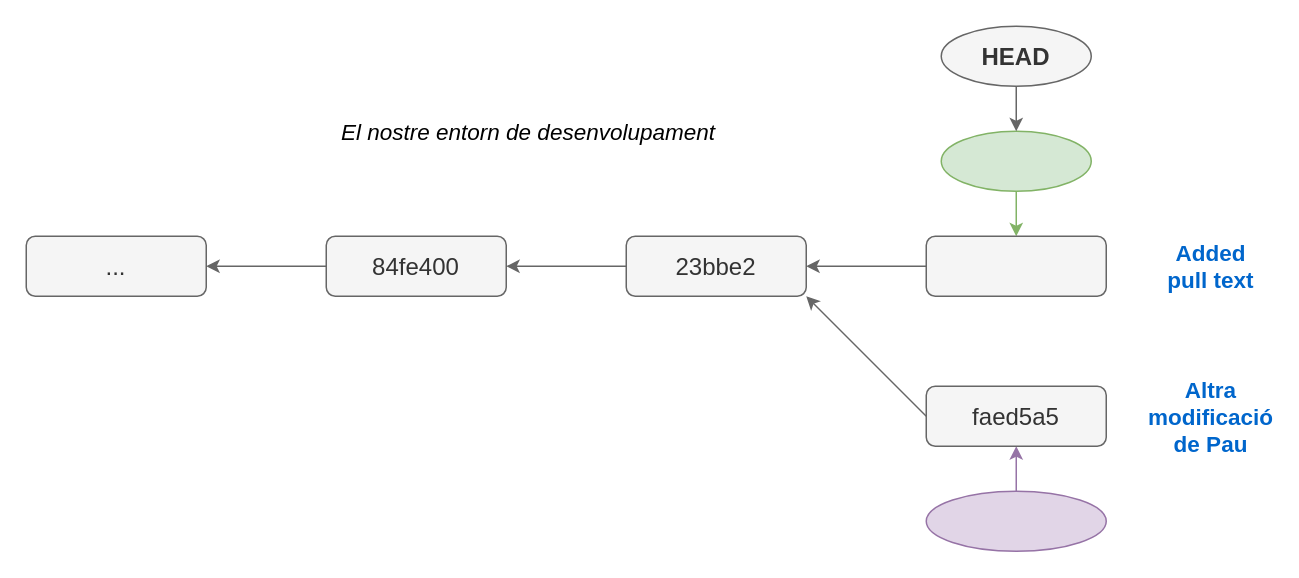
This 1299x578 diagram has some shape labels left out. The shapes that lost their labels are listed below. From the top down, each one's box as (x1, y1, x2, y2) in pixels, then its label:
(940, 130, 1091, 191): main
(925, 235, 1106, 296): 8ee181d
(925, 490, 1106, 551): origin/main
